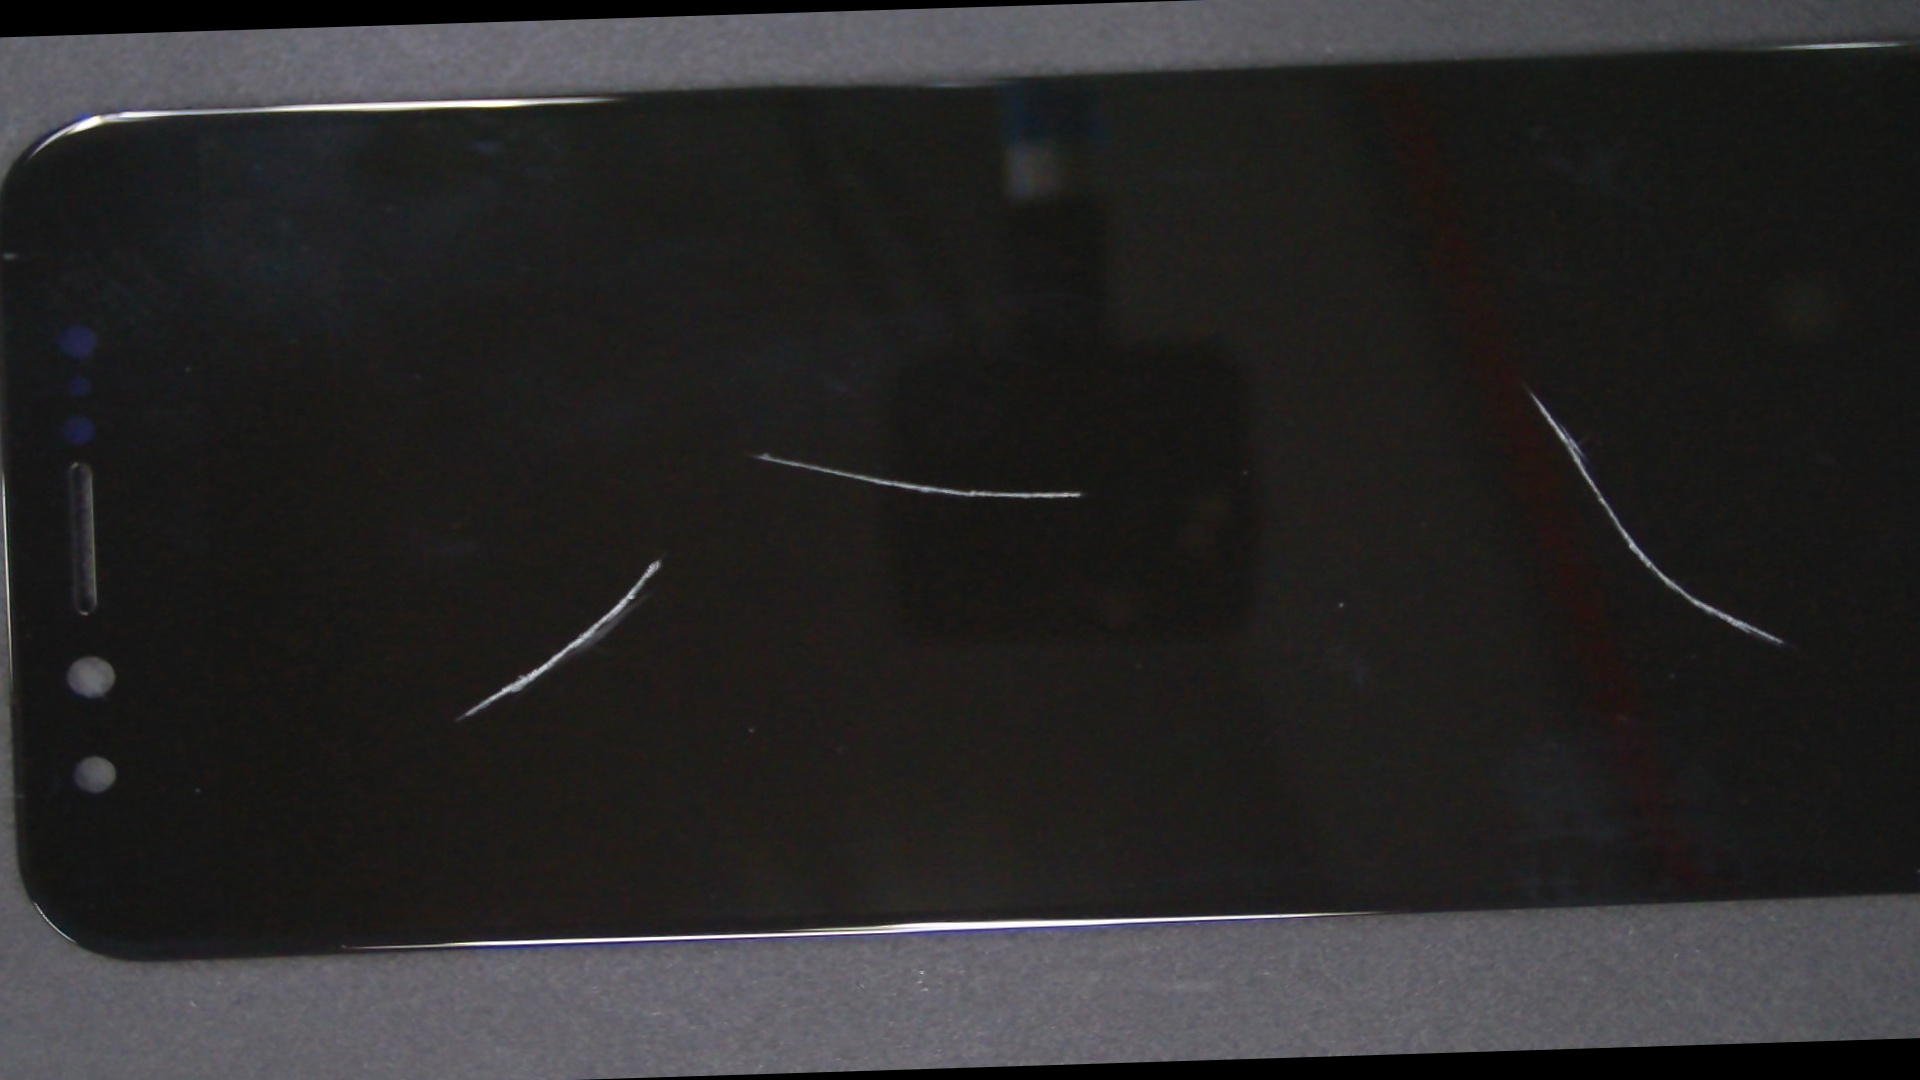oil: (731, 171, 1920, 620), (295, 276, 1021, 843), (348, 220, 1183, 686)
